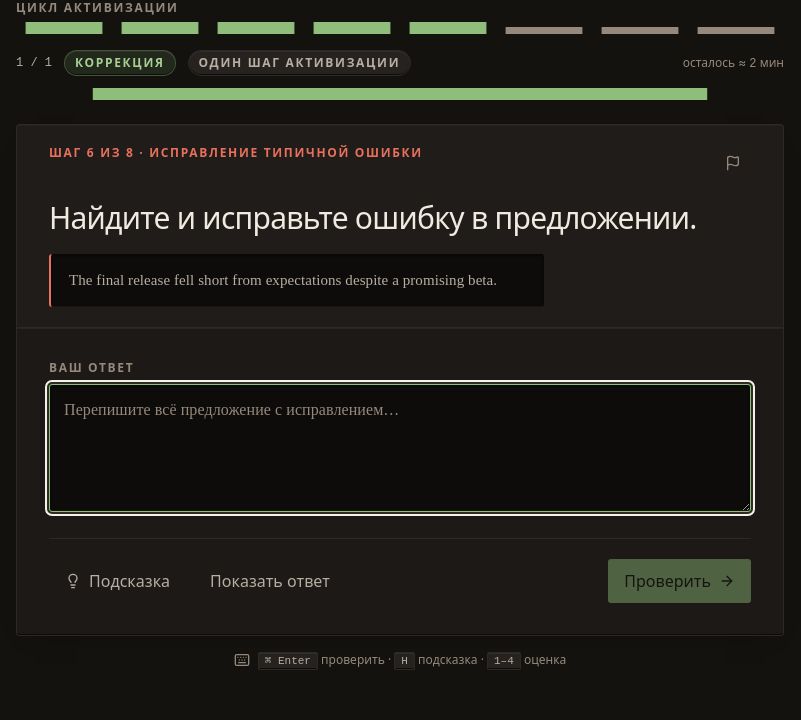
Scenario: PracticePage cross-route support provenance › treats the authored Step-6 cue as counted help instead of exposing it in the task
expect the heading "Найдите и исправьте ошибку в предложении." is shown: met, box [49,197,751,238]
expect the text "В выражении fall short of замените неверный предлог from на of." is not shown: met
Step 1. Click the button "Подсказка" → point(118, 581), box [49,559,186,603]
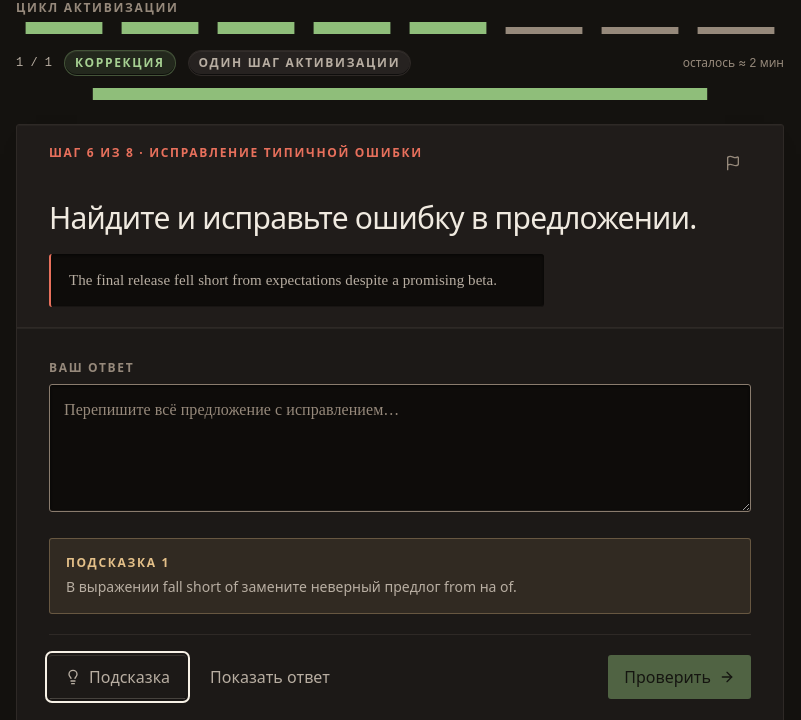
expect the text "В выражении fall short of замените неверный предлог from на of." is shown: met, box [66,577,517,596]
Step 2. Type "The final release fell short of expectations despite a promising beta." into the text box with placeholder "Перепишите всё предложение с исправлением…" → point(400, 448), box [49,384,751,512]
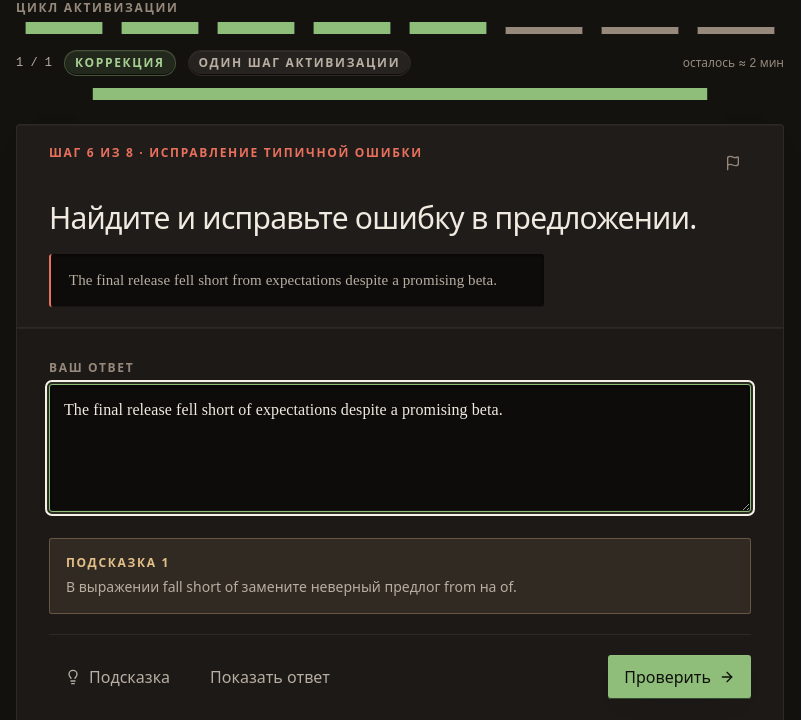
Step 3. Click the button "Проверить" → point(680, 677), box [608,655,751,699]
(page scrolled)
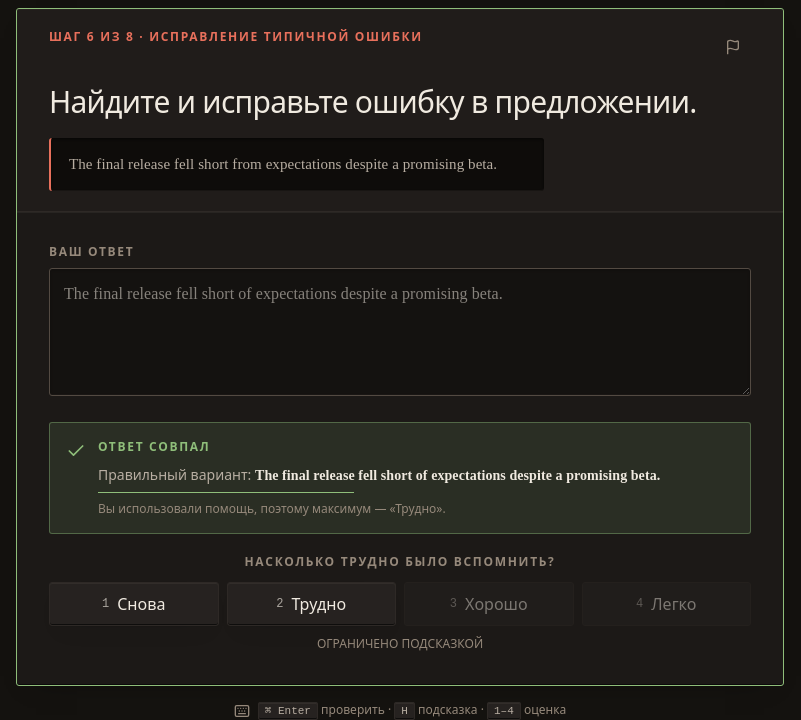
expect the button "3 Хорошо" is disabled: met, box [404,582,574,626]
expect the button "2 Трудно" is enabled: met, box [226,582,396,626]
